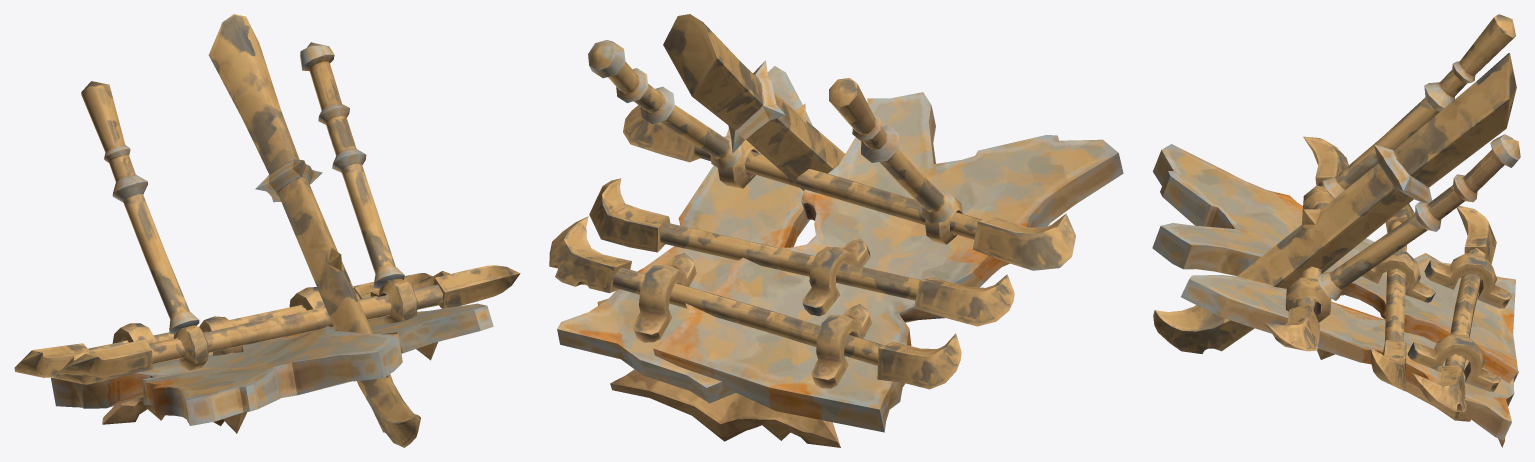
The model's file is HL_Barricade_C_DmgState_02_03.obj.
3 views of the same model, side by side, from view 1: azimuth 30°, elevation 25°; view 2: azimuth 150°, elevation 25°; view 3: azimuth 270°, elevation 25° (orthographic). The views are drawn at different scales.
Parts seen in each view (by area): view 1: Dn_HL_Barricade_C_DmgState_02_03; view 2: Dn_HL_Barricade_C_DmgState_02_03; view 3: Dn_HL_Barricade_C_DmgState_02_03.
Part boxes in pixels (x1,y1,x2,y2): Dn_HL_Barricade_C_DmgState_02_03: [14, 14, 520, 447]; Dn_HL_Barricade_C_DmgState_02_03: [549, 14, 1123, 447]; Dn_HL_Barricade_C_DmgState_02_03: [1152, 14, 1520, 447].
Bounding box in the file's own units: 4.43 × 3.87 × 3.35.
